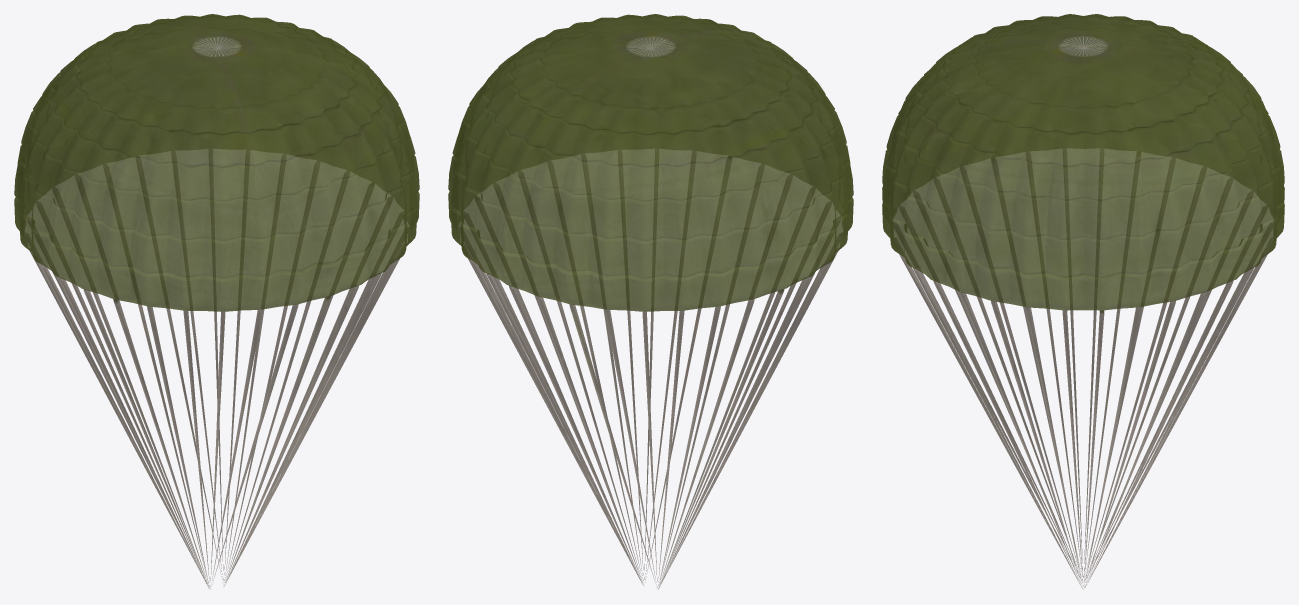
File: parachute.glb
The picture shows the model from 3 angles, left to right: view 1: azimuth 30°, elevation 25°; view 2: azimuth 150°, elevation 25°; view 3: azimuth 270°, elevation 25°; orthographic projection.
Visible parts, largest first — view 1: pSphere1; view 2: pSphere1; view 3: pSphere1.
Boxes of the visible parts, bbox=[...] form: pSphere1: bbox=[14, 14, 419, 589]; pSphere1: bbox=[448, 14, 853, 589]; pSphere1: bbox=[882, 14, 1284, 589].
Bounding box in the file's own units: 1.35 × 2 × 1.35.
Materials: 1 (1 with a texture image).
